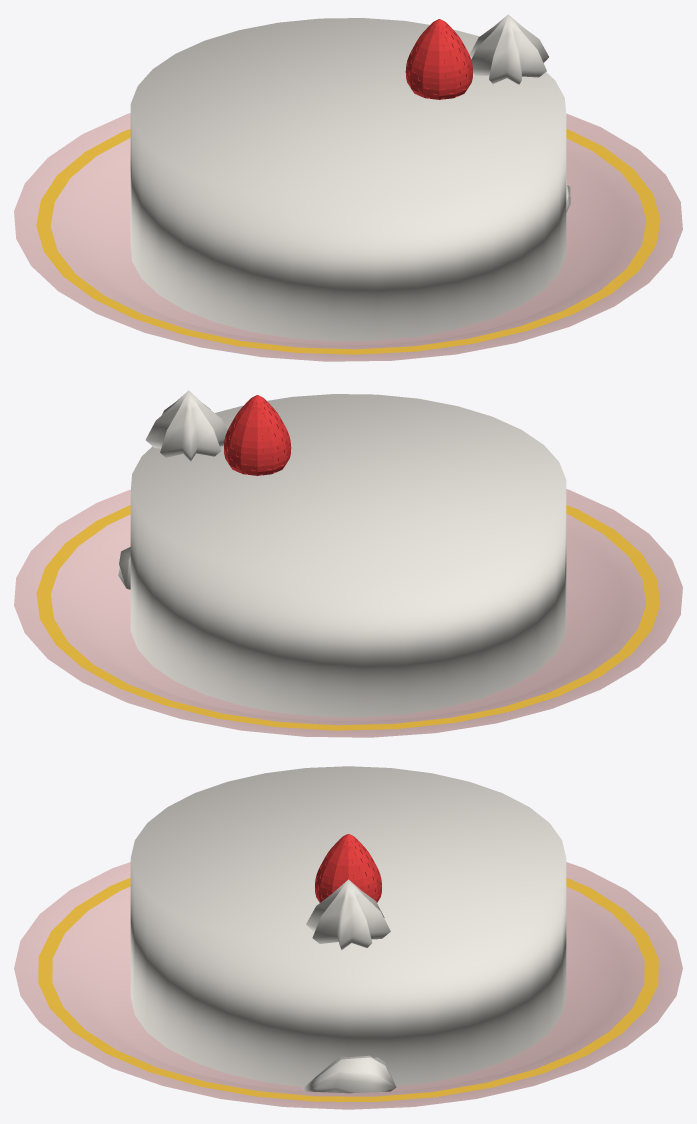
Rendered from short_cake.gltf.
3 views of the same model, one above another, from view 1: azimuth 30°, elevation 25°; view 2: azimuth 150°, elevation 25°; view 3: azimuth 270°, elevation 25° (orthographic).
Visible parts, largest first — view 1: 円柱, 円.001, 円.002, ベジエカーブ, 円; view 2: 円柱, 円.001, 円.002, ベジエカーブ, 円; view 3: 円柱, 円.001, 円.002, 円, ベジエカーブ, 円.003.
Boxes of the visible parts, x1=… form: 円柱: x1=130, y1=18, x2=566, y2=341; 円.001: x1=14, y1=113, x2=682, y2=361; 円.002: x1=36, y1=128, x2=660, y2=354; ベジエカーブ: x1=405, y1=19, x2=472, y2=99; 円: x1=469, y1=14, x2=548, y2=84; 円柱: x1=130, y1=394, x2=566, y2=717; 円.001: x1=14, y1=489, x2=682, y2=737; 円.002: x1=36, y1=505, x2=660, y2=730; ベジエカーブ: x1=224, y1=395, x2=291, y2=475; 円: x1=145, y1=390, x2=227, y2=461; 円柱: x1=130, y1=766, x2=566, y2=1086; 円.001: x1=14, y1=862, x2=682, y2=1109; 円.002: x1=38, y1=877, x2=658, y2=1101; 円: x1=306, y1=879, x2=390, y2=949; ベジエカーブ: x1=315, y1=834, x2=381, y2=902; 円.003: x1=302, y1=1055, x2=396, y2=1093.
Bounding box in the file's own units: 3.07 × 1.1 × 3.07.
